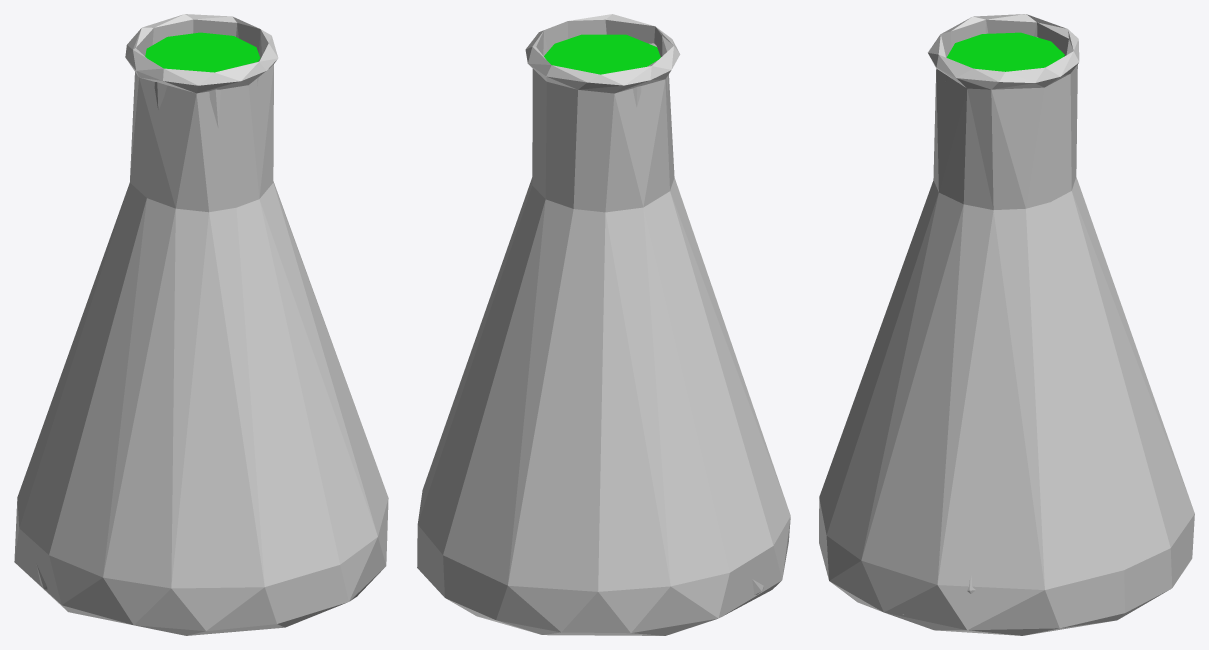
File: ErlenmeyerFlask_2.fbx
3 views of the same model, side by side, from view 1: azimuth 30°, elevation 25°; view 2: azimuth 150°, elevation 25°; view 3: azimuth 270°, elevation 25° (orthographic).
Visible parts, largest first — view 1: flask_1, solution_1; view 2: flask_1, solution_1; view 3: flask_1, solution_1.
Boxes of the visible parts, x1,y1,x2,y2 form: flask_1: (14, 14, 388, 635); solution_1: (145, 32, 260, 72); flask_1: (417, 14, 790, 635); solution_1: (544, 34, 660, 74); flask_1: (819, 14, 1194, 635); solution_1: (946, 32, 1064, 71).
Size of the model in its own units: 0.1313 by 0.2027 by 0.1325.
